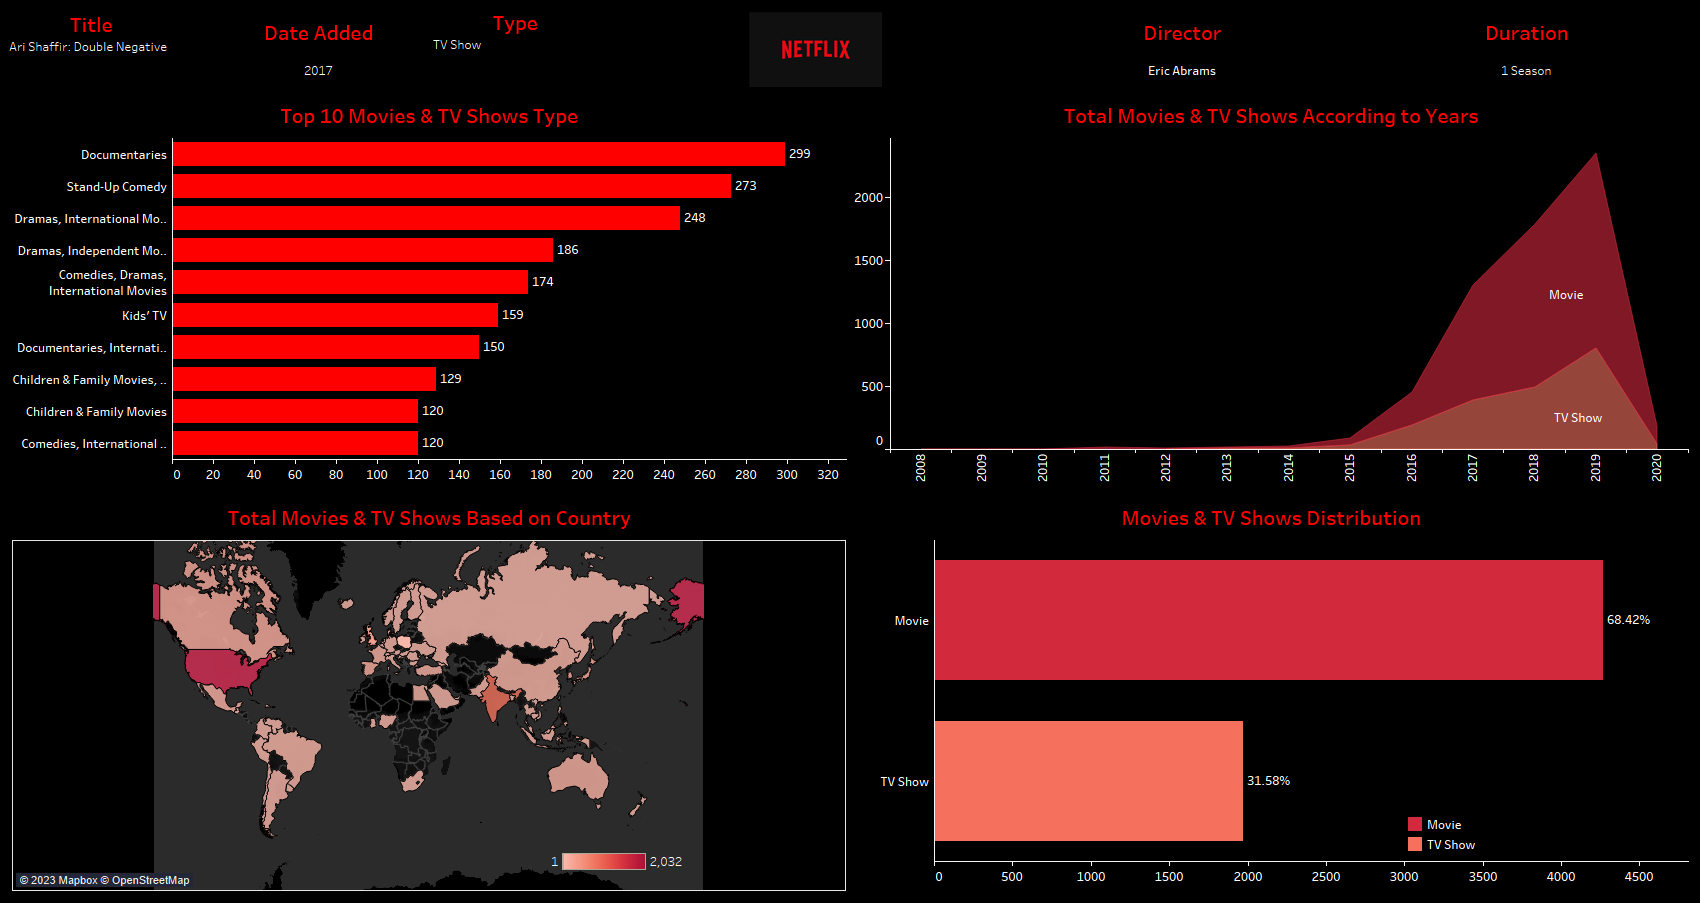

The dashboard page shown, as its layout file describes it:
{"tool":"tableau","page":{"name":"Nteflix_Dashboard","canvas":[1700,903],"ordinal":0},"visuals":[{"type":"filter","title":"Date Added","param":"[federated.07mjldv1edidss139pqr70xgxgl5].[none:type:nk]","box":[431,7,168,61]},{"type":"worksheet","title":"Date Added","mark":"Automatic","box":[8,8,621,83]},{"type":"image","param":"C:/Users/USER/OneDrive/Pictures/Wallpaper/download.png","box":[629,8,374,83]},{"type":"worksheet","title":"Director","mark":"Automatic","box":[1003,8,358,83]},{"type":"worksheet","title":"Duration","mark":"Automatic","box":[1361,8,331,83]},{"type":"filter","title":"Date Added","param":"[federated.07mjldv1edidss139pqr70xgxgl5].[none:title:nk]","box":[7,9,168,76]},{"type":"worksheet","title":"Top 10 movies & Tv shows Type","mark":"Automatic","rows":["listed_in"],"cols":["show_id"],"box":[8,91,841.9,402]},{"type":"worksheet","title":"Total movies & tv shows according to year","mark":"Area","rows":["show_id"],"cols":["date_added"],"box":[849.9,91,842,402]},{"type":"worksheet","title":"Total movies&tvshows by country","mark":"Multipolygon","box":[8,493,841.9,402]},{"type":"worksheet","title":"Movies & TV show Distribution","mark":"Automatic","rows":["type"],"cols":["show_id"],"box":[849.9,493,842,402]},{"type":"legend","title":"Movies & TV show Distribution","param":"[federated.07mjldv1edidss139pqr70xgxgl5].[none:type:nk]","box":[1405,814,140,40]},{"type":"legend","title":"Total movies&tvshows by country","param":"[federated.07mjldv1edidss139pqr70xgxgl5].[ctd:show_id:qk]","box":[547,849,140,39]}]}

Visuals, with their boxes in screenshot pixels (x1, y1, x2, y2), scaled from the page's 1700x903 canvas onto the 1700x903 screenshot:
"Date Added" filter: BBox(431, 7, 599, 68)
"Date Added" worksheet: BBox(8, 8, 629, 91)
image: BBox(629, 8, 1003, 91)
"Director" worksheet: BBox(1003, 8, 1361, 91)
"Duration" worksheet: BBox(1361, 8, 1692, 91)
"Date Added" filter: BBox(7, 9, 175, 85)
"Top 10 movies & Tv shows Type" worksheet: BBox(8, 91, 850, 493)
"Total movies & tv shows according to year" worksheet (Area marks): BBox(850, 91, 1692, 493)
"Total movies&tvshows by country" worksheet (Multipolygon marks): BBox(8, 493, 850, 895)
"Movies & TV show Distribution" worksheet: BBox(850, 493, 1692, 895)
"Movies & TV show Distribution" legend: BBox(1405, 814, 1545, 854)
"Total movies&tvshows by country" legend: BBox(547, 849, 687, 888)
